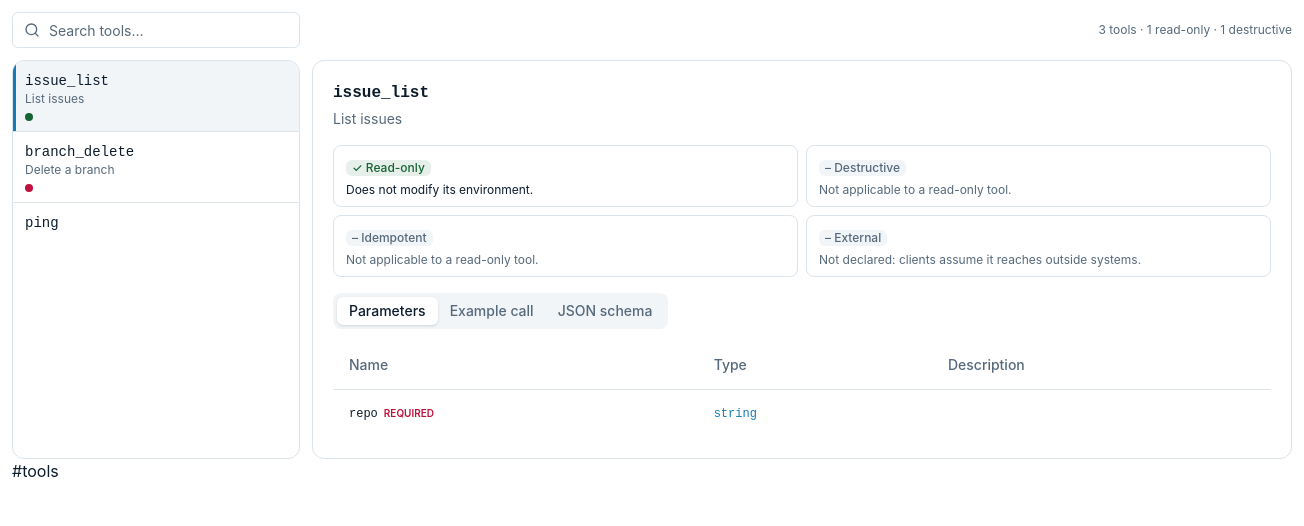
Test case: ToolsExplorer › filters by name, title and description
This screenshot has width=1304, height=526.
Step 1. Type "delete branch" into the search field labelled "Search tools" → [156, 30], box left=12, top=12, right=300, bottom=48
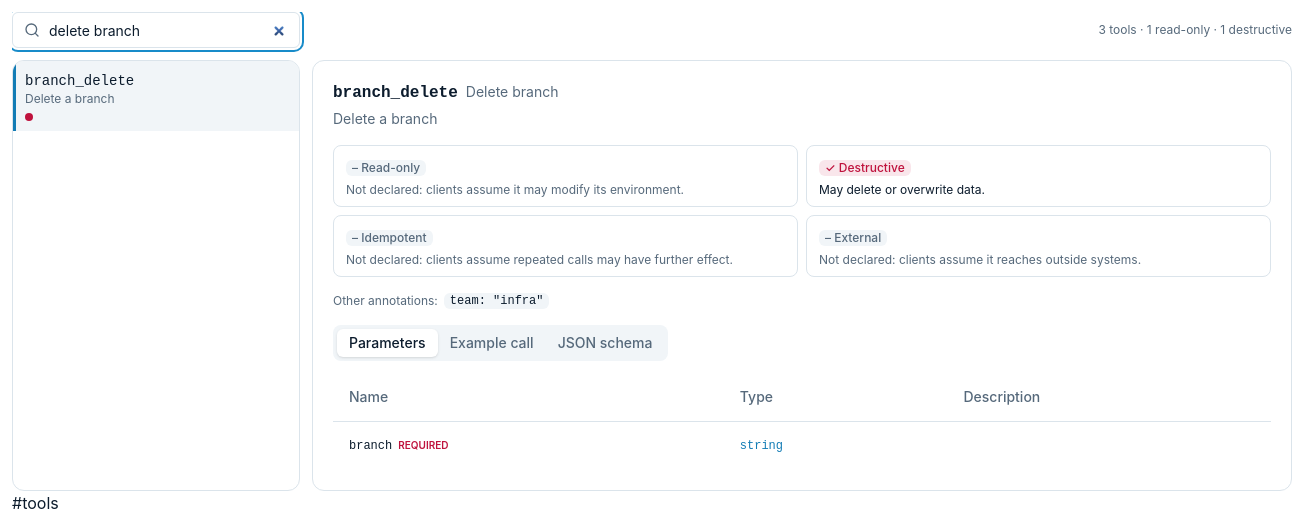
Step 2. Replace the text in the search field named "Search tools" with "nothing" → [156, 30], box left=12, top=12, right=300, bottom=48
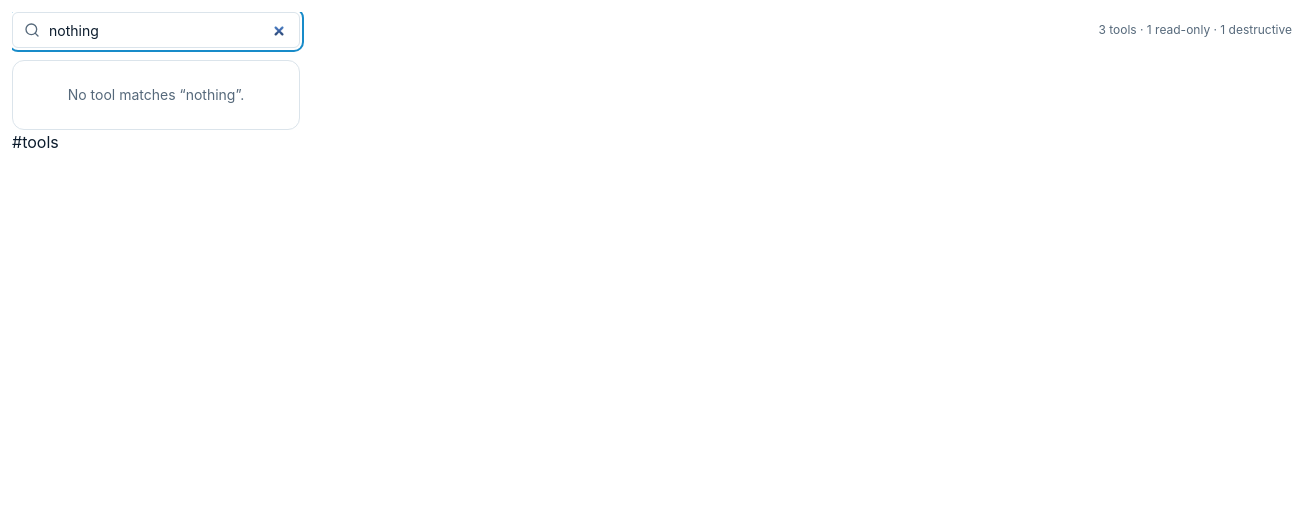
Expected: the text "No tool matches “nothing”." is shown, left=68, top=86, right=244, bottom=103
